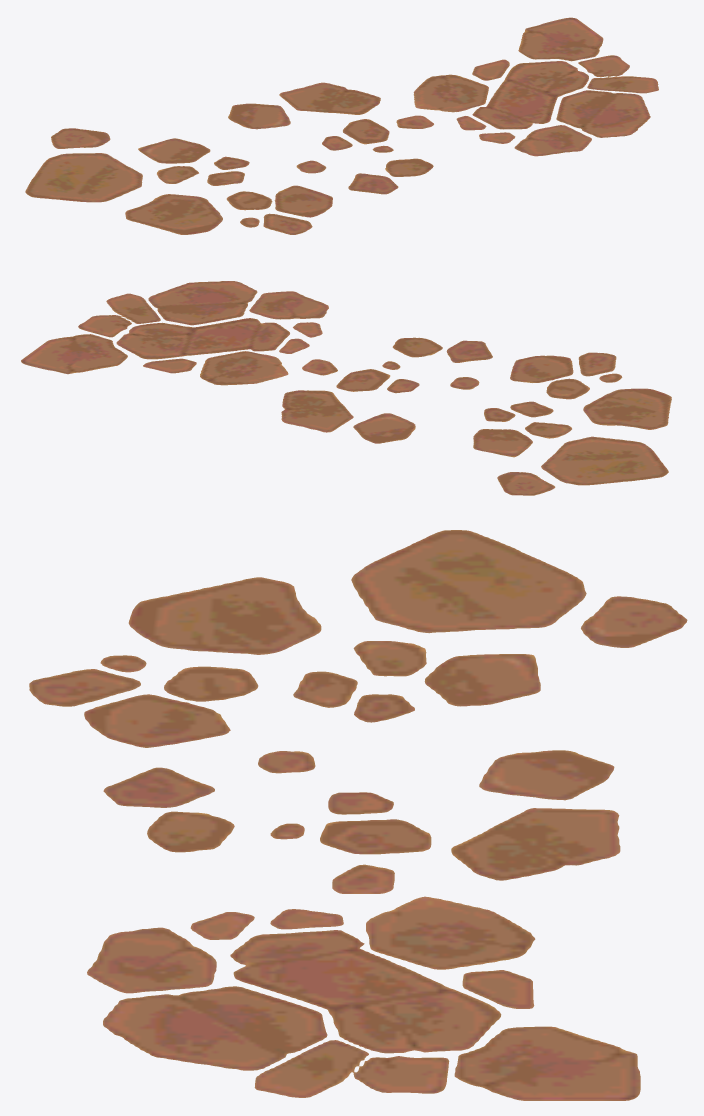
Rendered from h5_xiaoshuishi.FBX.
The picture shows the model from 3 angles, top to bottom: view 1: azimuth 30°, elevation 25°; view 2: azimuth 150°, elevation 25°; view 3: azimuth 270°, elevation 25°; orthographic projection. The views are drawn at different scales.
Parts seen in each view (by area): view 1: h5_xiaoshuishi_c, h5_xiaoshuishi_a, h5_xiaoshuishi_b; view 2: h5_xiaoshuishi_c, h5_xiaoshuishi_a, h5_xiaoshuishi_b; view 3: h5_xiaoshuishi_c, h5_xiaoshuishi_a, h5_xiaoshuishi_b.
Boxes of the visible parts, x1=… form: h5_xiaoshuishi_c: x1=413, y1=17, x2=658, y2=156; h5_xiaoshuishi_a: x1=25, y1=128, x2=332, y2=234; h5_xiaoshuishi_b: x1=228, y1=82, x2=433, y2=194; h5_xiaoshuishi_c: x1=21, y1=281, x2=328, y2=385; h5_xiaoshuishi_a: x1=473, y1=352, x2=671, y2=495; h5_xiaoshuishi_b: x1=281, y1=337, x2=492, y2=443; h5_xiaoshuishi_c: x1=87, y1=896, x2=640, y2=1100; h5_xiaoshuishi_a: x1=29, y1=530, x2=687, y2=747; h5_xiaoshuishi_b: x1=103, y1=750, x2=620, y2=893.
Bounding box in the file's own units: 5.07 × 1.55e-16 × 2.52.
